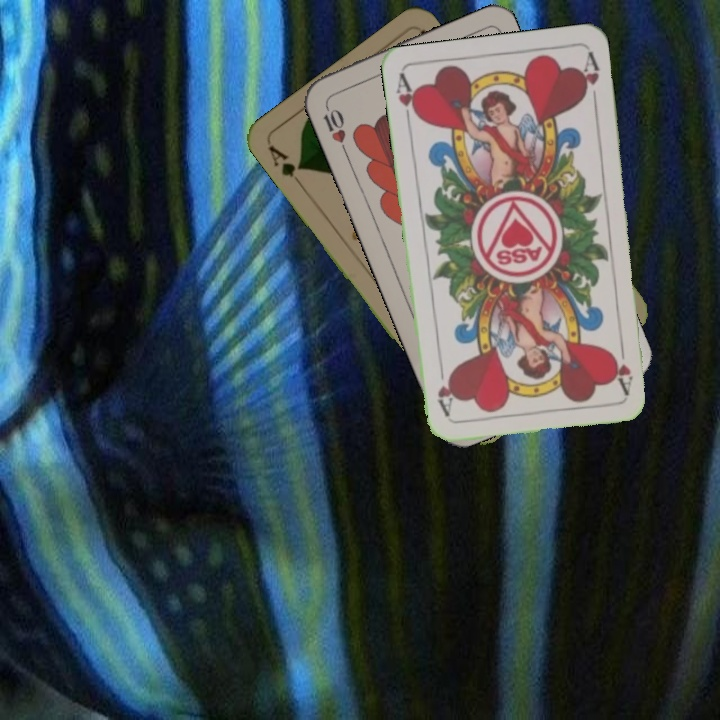GA: (264, 141, 307, 191)
H10: (319, 99, 350, 156)
HA: (392, 71, 422, 130), (611, 336, 635, 395)
